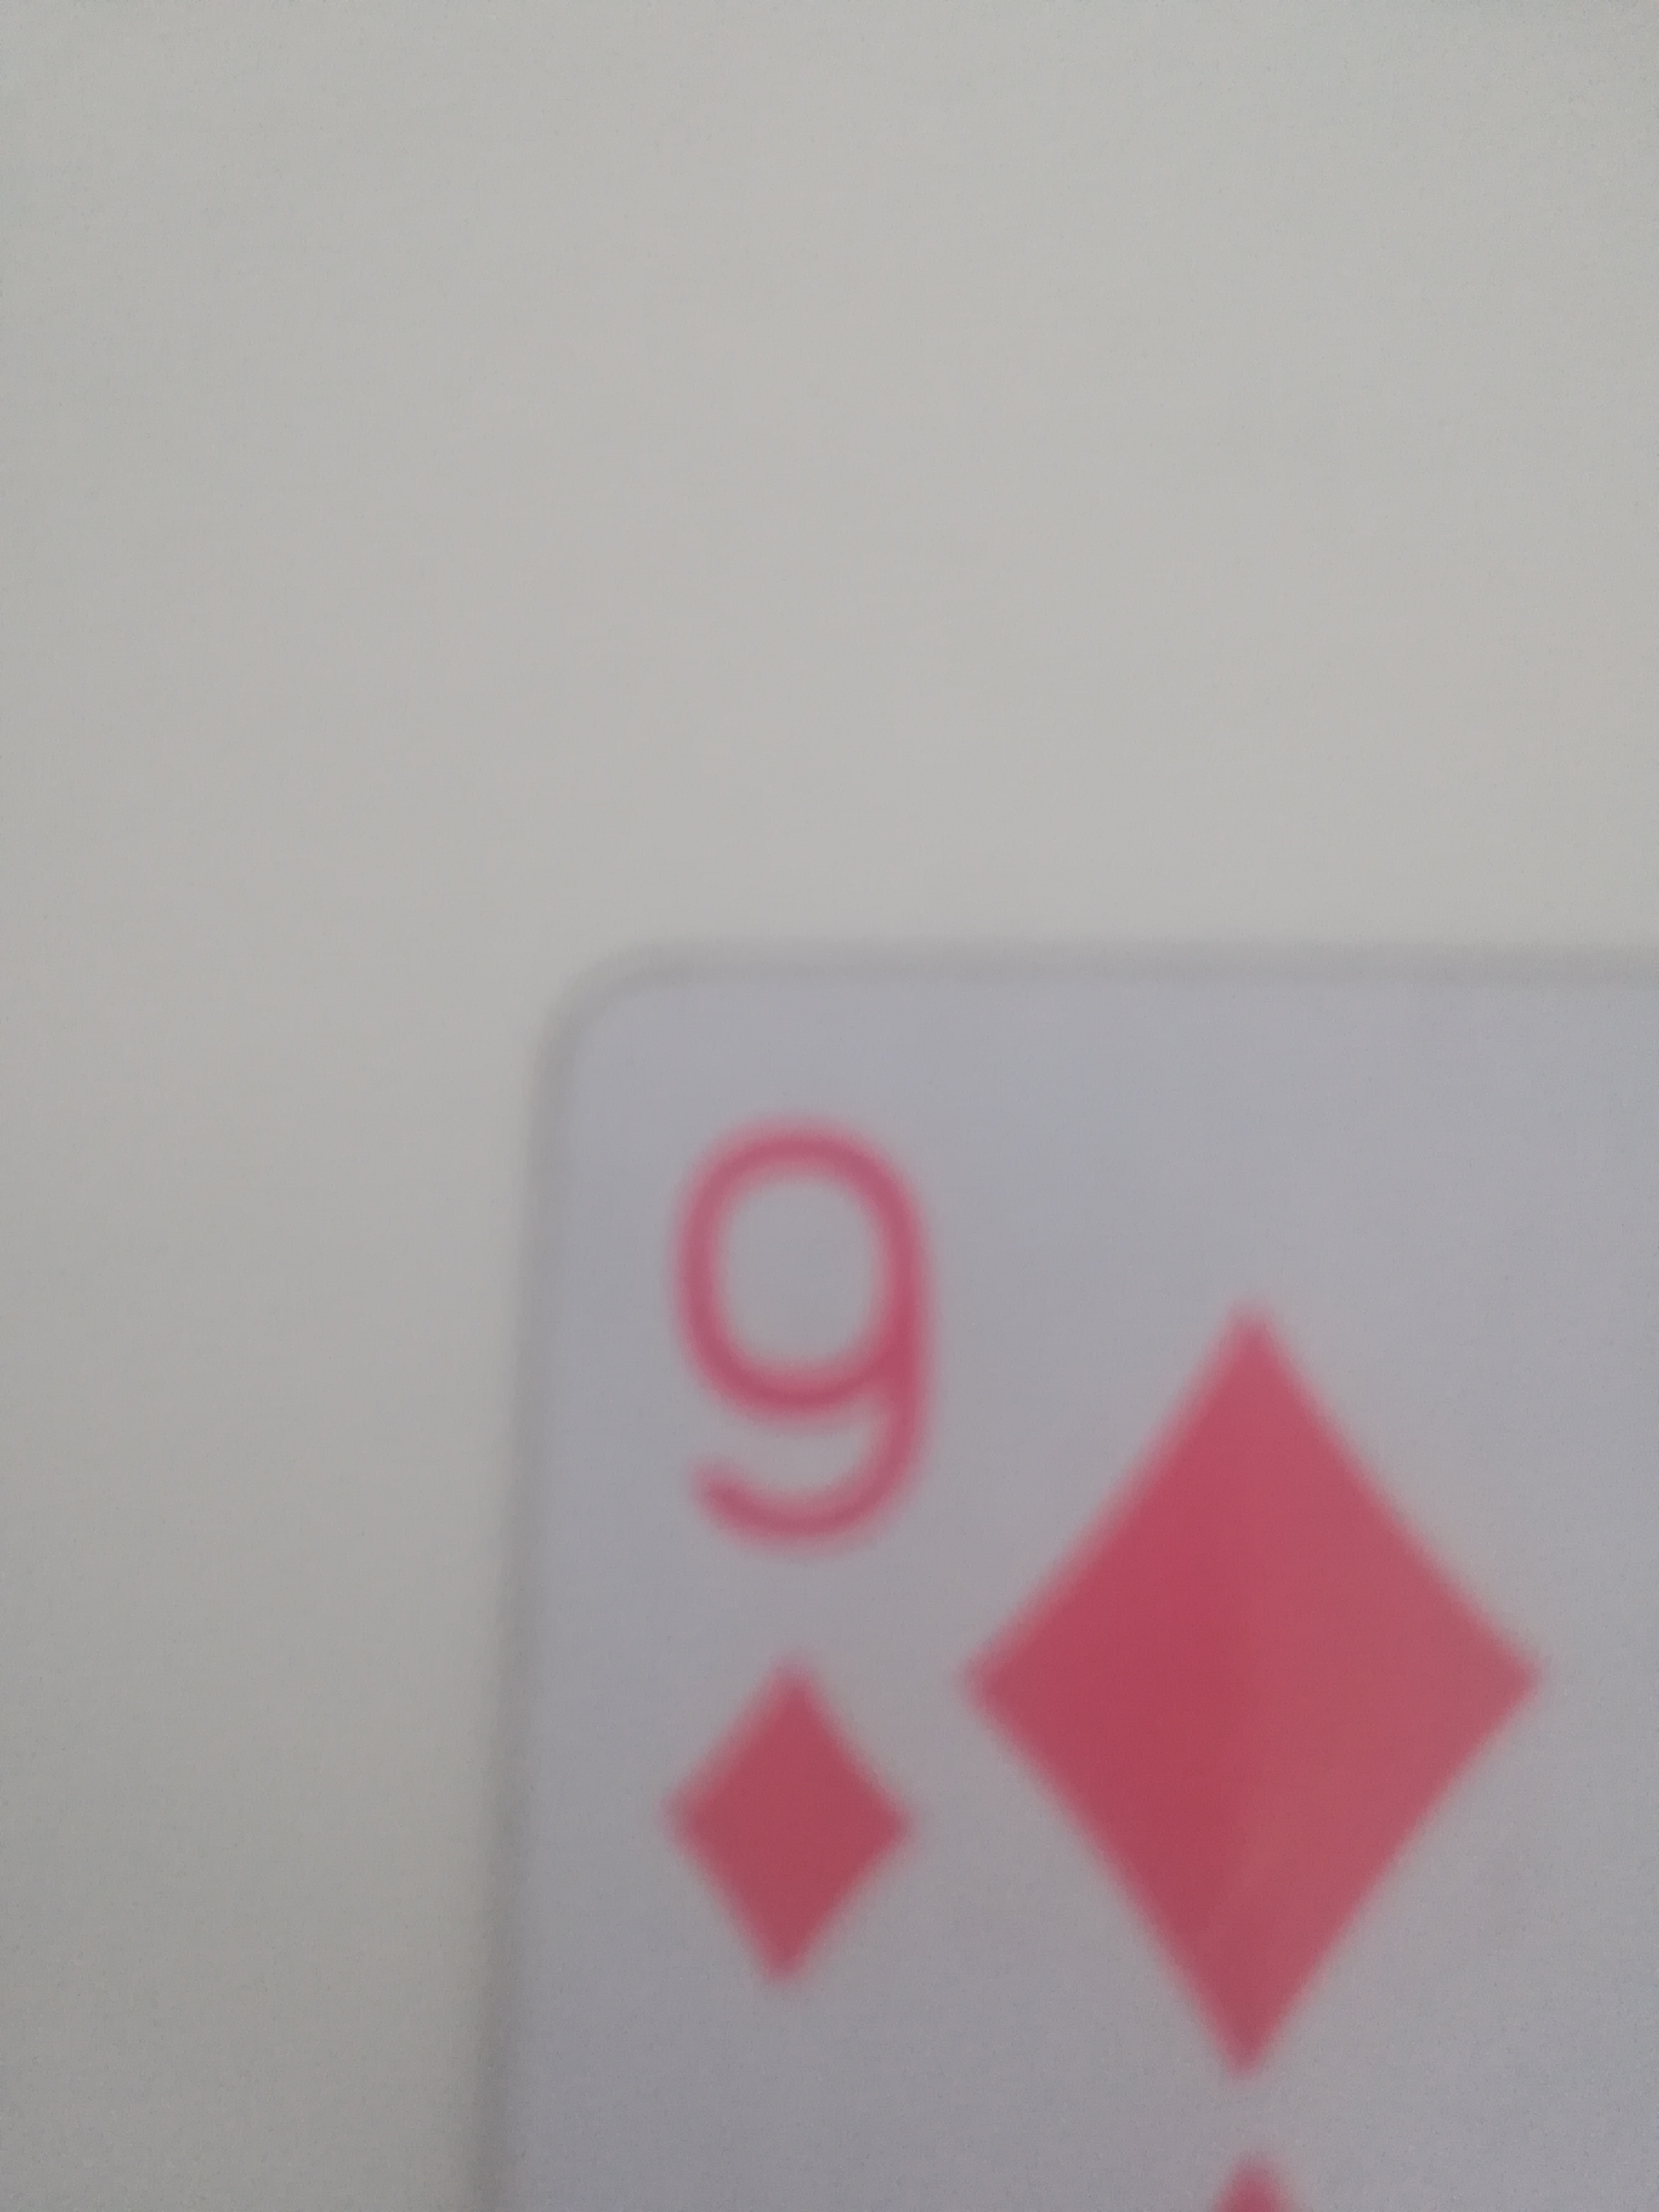9D: (500, 946, 1659, 2205)
